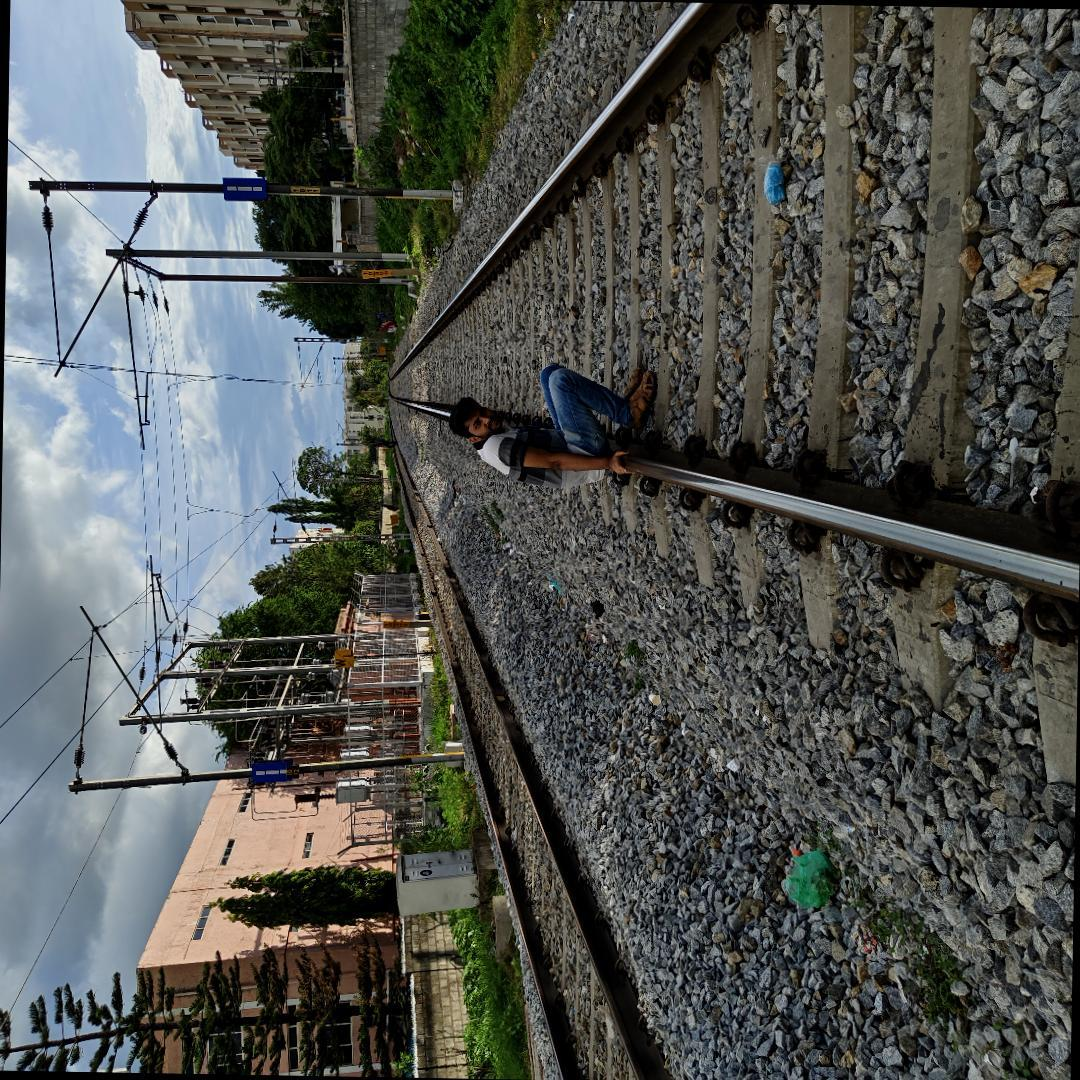sitting: (444, 348, 672, 499)
